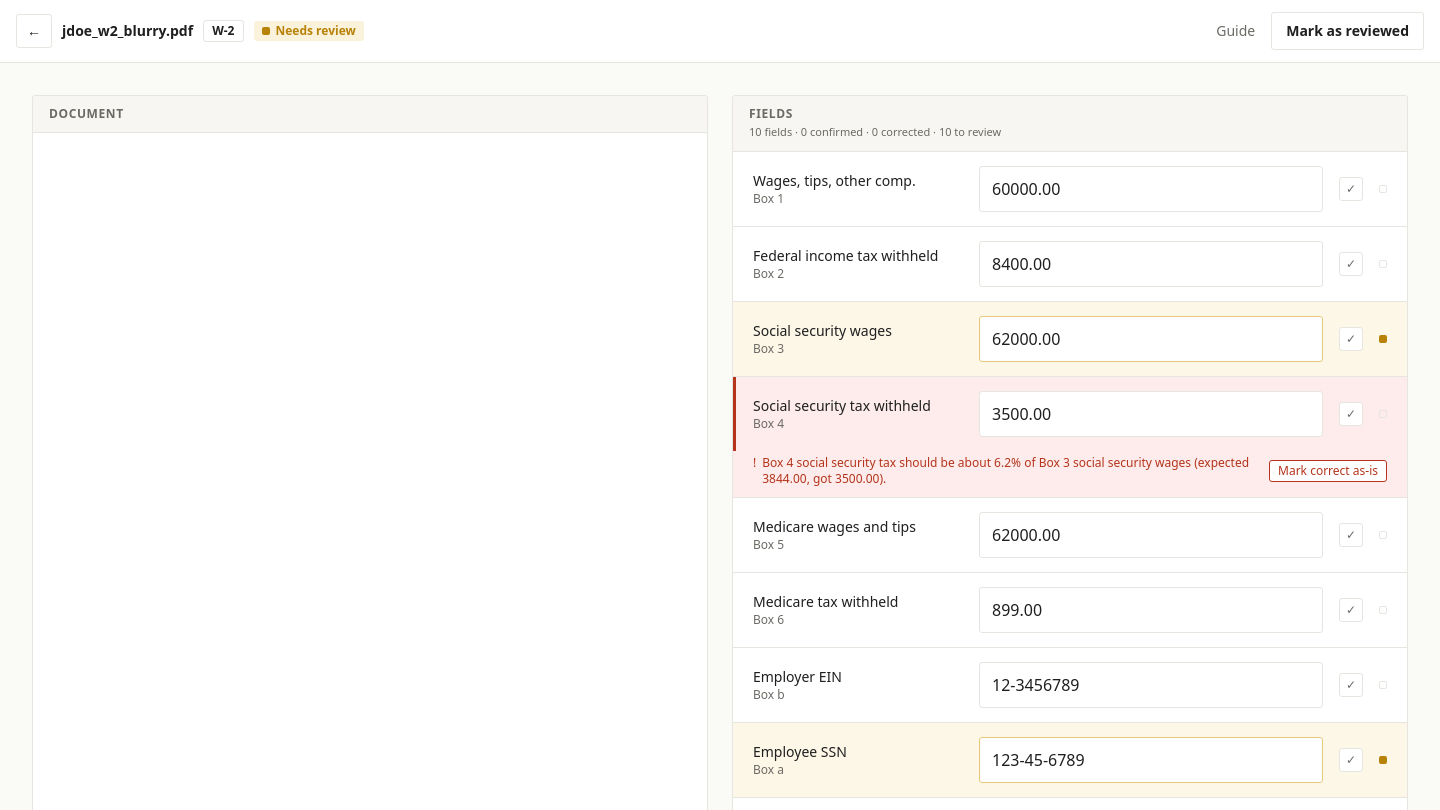
marking review on a flagged doc shows a blocking banner and does not navigate
Click the button "Mark as reviewed".
click(1348, 31)  # box [1271, 12, 1424, 50]
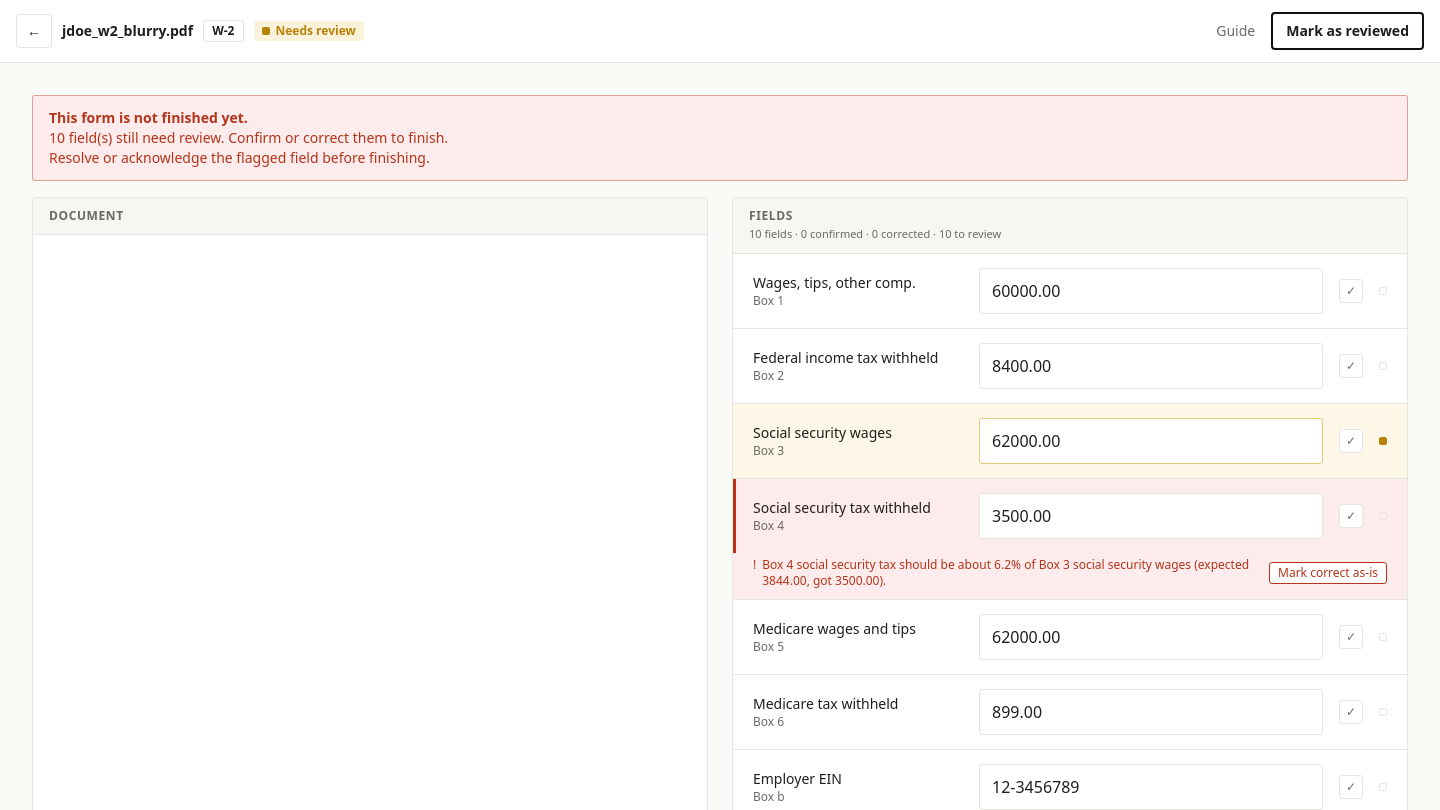
Check: the text "Needs review" is shown, box [254, 21, 364, 41]
Check: the text "This form is not finished yet." is shown, box [49, 108, 248, 127]
